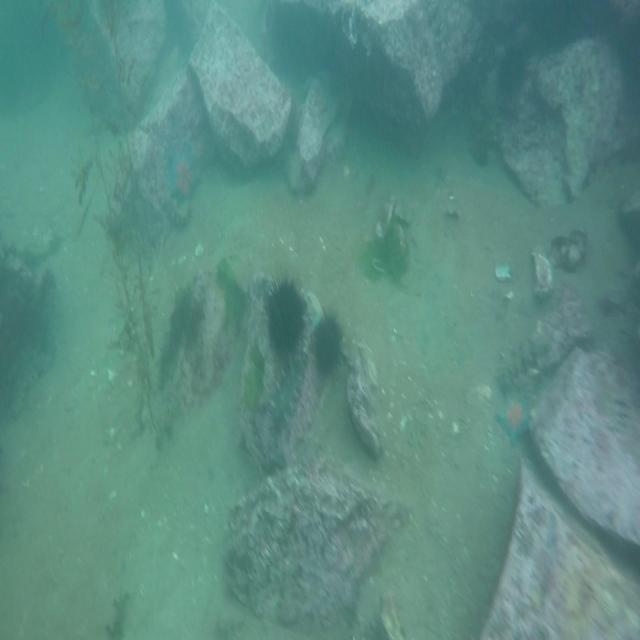echinus: (263, 264, 309, 360), (310, 307, 346, 381)
holothurian: (262, 348, 309, 429), (7, 352, 59, 423), (155, 186, 189, 230)
starfish: (494, 387, 534, 449), (167, 140, 206, 194)
